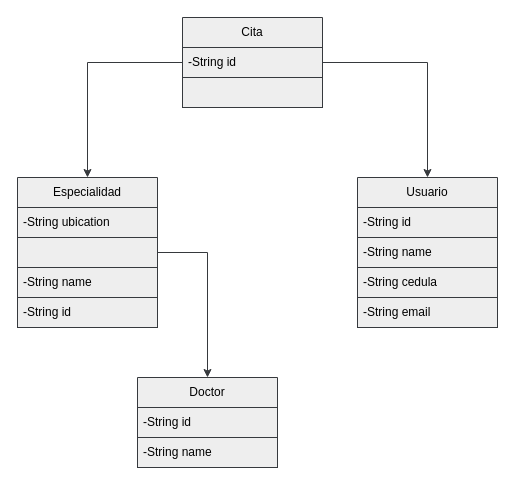
Some shapes in this 515 by 485 pixel diagram are drawn without their labels. Each missing label, with the centre of its shape:
"-Date date" goes at point 252,92.
"-String description" goes at point 87,252.
